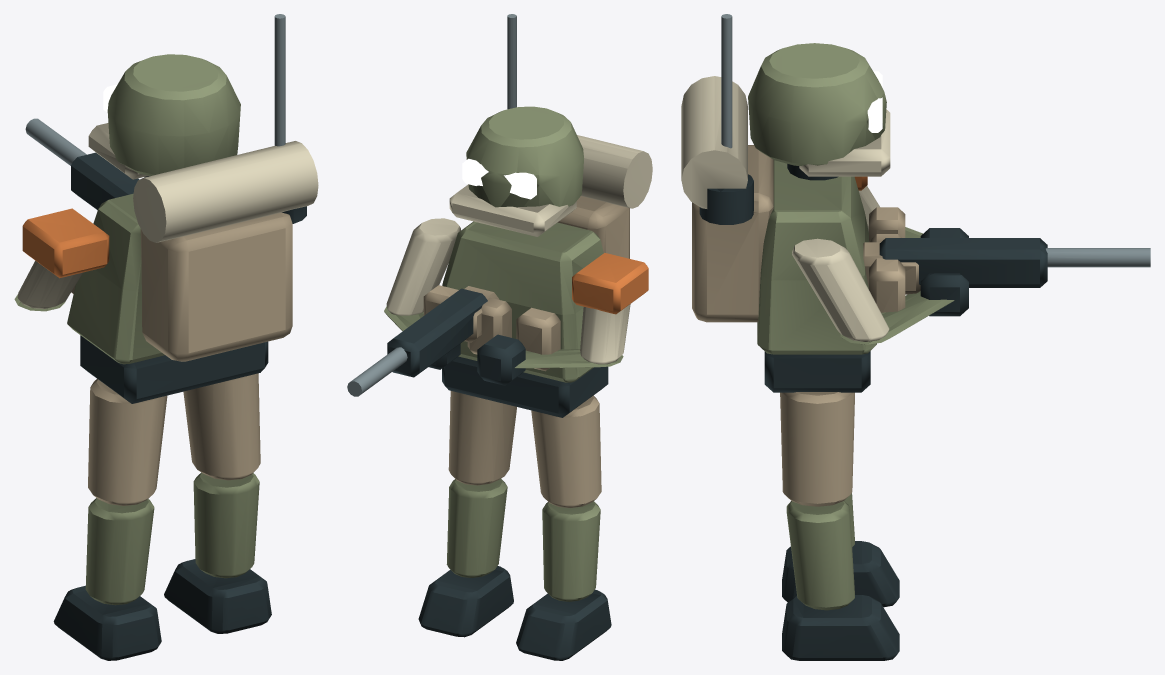
The model's file is RidgeRanger.glb.
3 views of the same model, side by side, from view 1: azimuth 30°, elevation 25°; view 2: azimuth 150°, elevation 25°; view 3: azimuth 270°, elevation 25° (orthographic). The views are drawn at different scales.
Parts seen in each view (by area): view 1: export_RidgeRanger_Belt, export_RidgeRanger_Trouser, export_RidgeRanger_Trouser.001; view 2: export_RidgeRanger_Belt, export_RidgeRanger_Trouser, export_RidgeRanger_Trouser.001; view 3: export_RidgeRanger_Belt, export_RidgeRanger_Trouser.001, export_RidgeRanger_Trouser.
Part boxes in pixels (x1,y1,x2,y2): export_RidgeRanger_Belt: (14, 14, 318, 403); export_RidgeRanger_Trouser: (53, 379, 167, 660); export_RidgeRanger_Trouser.001: (164, 373, 271, 633); export_RidgeRanger_Belt: (347, 14, 652, 417); export_RidgeRanger_Trouser: (516, 395, 611, 660); export_RidgeRanger_Trouser.001: (418, 391, 516, 637); export_RidgeRanger_Belt: (681, 14, 1150, 392); export_RidgeRanger_Trouser.001: (780, 392, 899, 660); export_RidgeRanger_Trouser: (782, 493, 899, 607).
Bounding box in the file's own units: 1.01 × 2.31 × 1.55.
